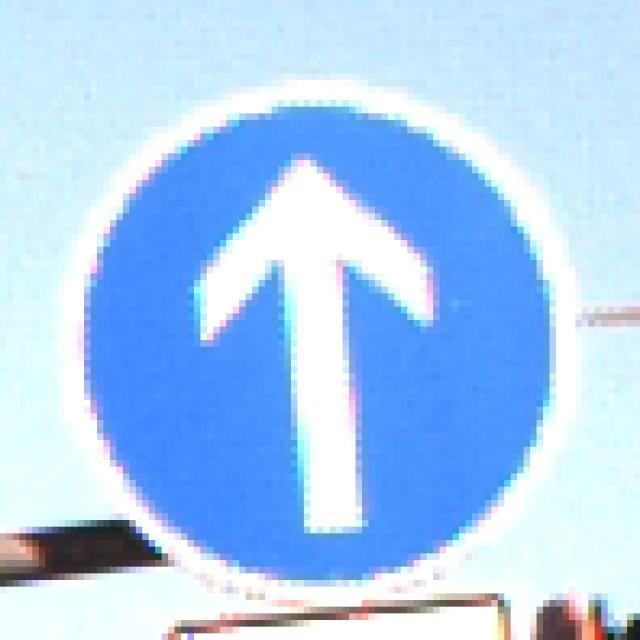compulsary ahead: (71, 79, 576, 599)
